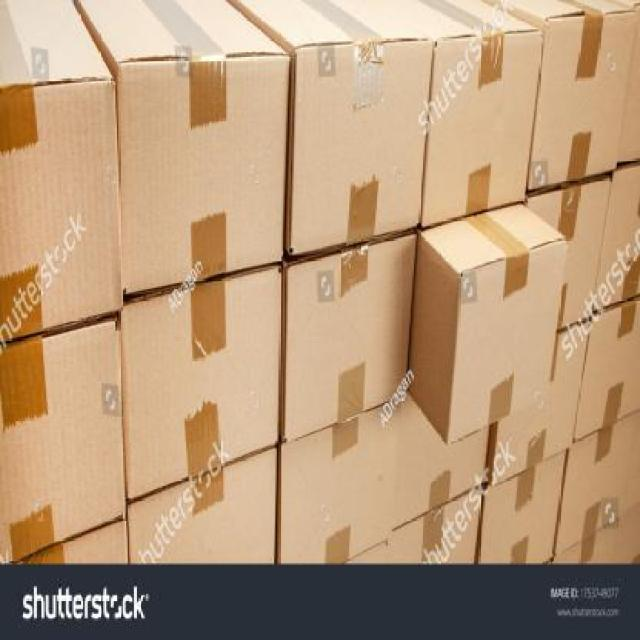BoxFace: (118, 53, 290, 301), (118, 261, 284, 501), (287, 34, 438, 257), (0, 74, 123, 340), (0, 315, 125, 563), (284, 232, 418, 446), (444, 238, 566, 439), (422, 28, 544, 227), (127, 442, 276, 596), (279, 394, 407, 560), (527, 7, 638, 196), (476, 447, 570, 576), (574, 296, 640, 442)
